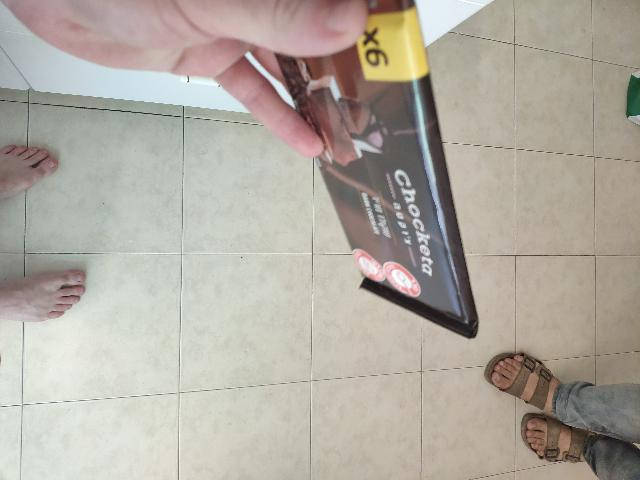chocolate: (160, 136, 506, 415)
